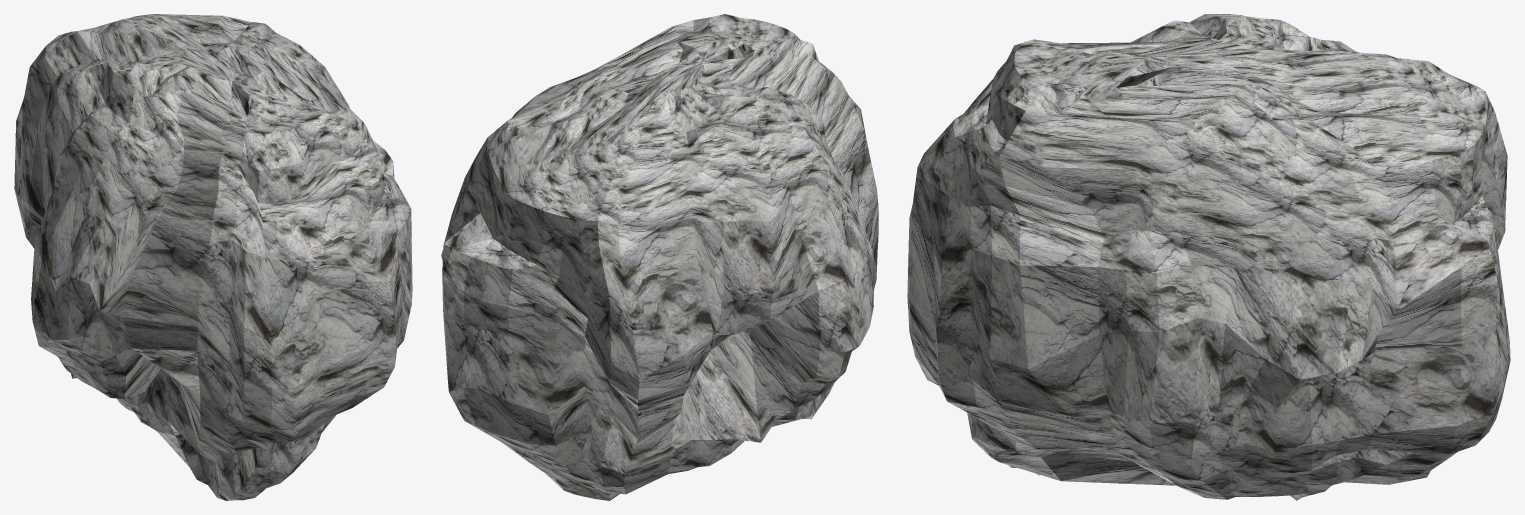
File: Asteroide2.obj
The picture shows the model from 3 angles, left to right: view 1: azimuth 30°, elevation 25°; view 2: azimuth 150°, elevation 25°; view 3: azimuth 270°, elevation 25°; orthographic projection. The views are drawn at different scales.
Visible parts, largest first — view 1: Sphere; view 2: Sphere; view 3: Sphere.
Boxes of the visible parts, bbox=[...] form: Sphere: bbox=[14, 14, 412, 500]; Sphere: bbox=[441, 14, 878, 500]; Sphere: bbox=[907, 14, 1510, 500].
Bounding box in the file's own units: 2.44 × 2.54 × 3.06.
1 material, 1 textured.
